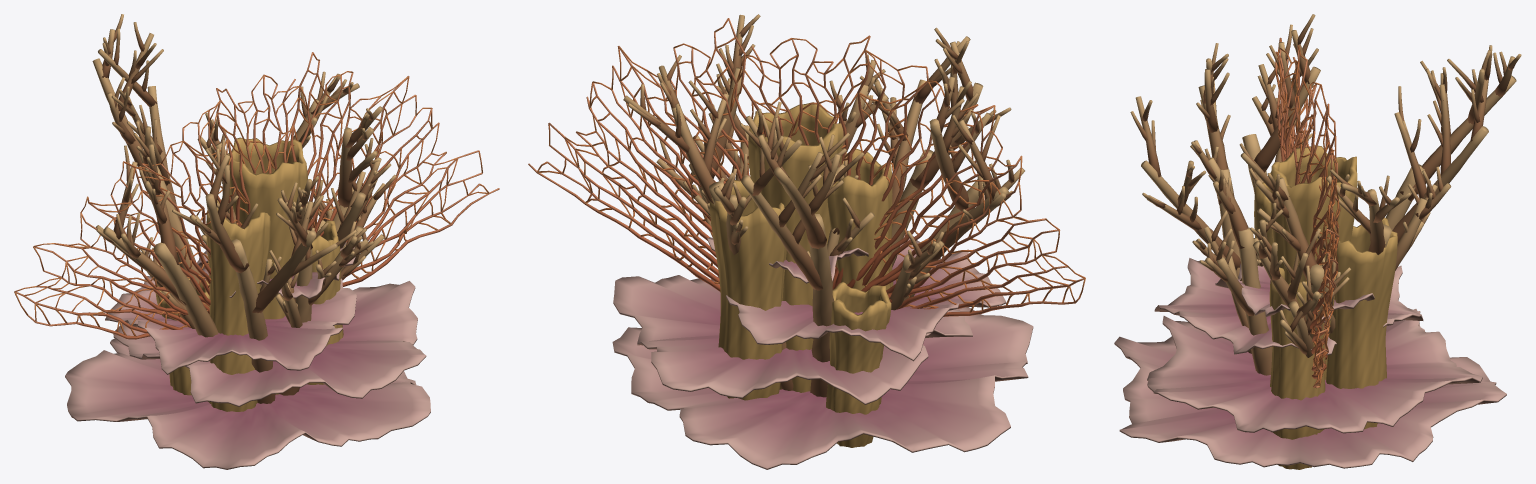
Rendered from reef-kit.glb.
3 views of the same model, side by side, from view 1: azimuth 30°, elevation 25°; view 2: azimuth 150°, elevation 25°; view 3: azimuth 270°, elevation 25° (orthographic). The views are drawn at different scales.
Visible parts, largest first — view 1: coral_table, coral_antler, coral_fan, sponge_cluster; view 2: coral_table, coral_antler, coral_fan, sponge_cluster; view 3: coral_table, coral_antler, sponge_cluster, coral_fan.
Part boxes in pixels (left/top/right/bottom): coral_table: left=65, top=242, right=430, bottom=469; coral_antler: left=92, top=14, right=396, bottom=403; coral_fan: left=14, top=52, right=499, bottom=339; sponge_cluster: left=155, top=137, right=343, bottom=411; coral_table: left=612, top=230, right=1033, bottom=469; coral_antler: left=623, top=14, right=1024, bottom=397; coral_fan: left=528, top=18, right=1085, bottom=316; sponge_cluster: left=709, top=102, right=893, bottom=447; coral_table: left=1114, top=257, right=1506, bottom=468; coral_antler: left=1130, top=14, right=1521, bottom=375; sponge_cluster: left=1254, top=145, right=1397, bottom=469; coral_fan: left=1275, top=37, right=1340, bottom=388.
Size of the model in its own units: 8.15 by 5.53 by 5.51.
